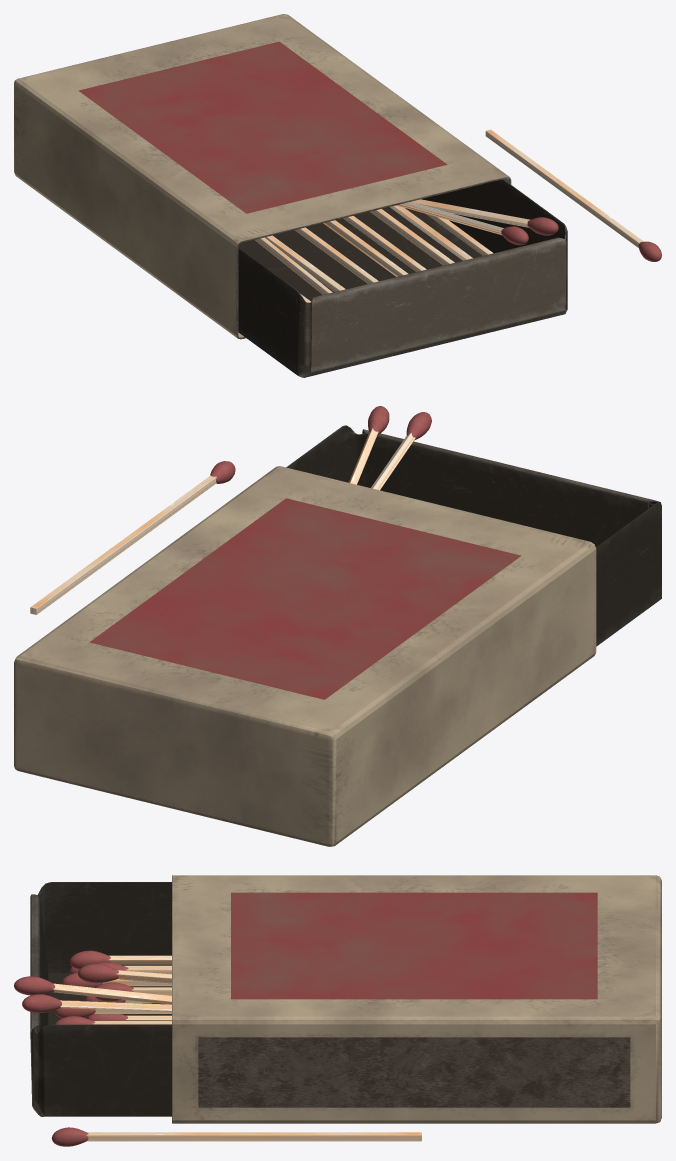
The model's file is マッチ箱.fbx.
The picture shows the model from 3 angles, top to bottom: view 1: azimuth 30°, elevation 25°; view 2: azimuth 150°, elevation 25°; view 3: azimuth 270°, elevation 25°; orthographic projection. The views are drawn at different scales.
Parts seen in each view (by area): view 1: pCube6, polySurface21; view 2: pCube6, polySurface21; view 3: pCube6, polySurface21.
Boxes of the visible parts, x1,y1,x2,y2 form: pCube6: (14, 14, 567, 377); polySurface21: (485, 129, 661, 261); pCube6: (14, 406, 661, 846); polySurface21: (30, 461, 235, 614); pCube6: (14, 875, 661, 1123); polySurface21: (51, 1127, 421, 1146).
Bounding box in the file's own units: 4.65 × 1.28 × 6.41.
6 materials, 6 textured.
